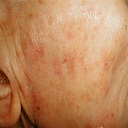Actinic: (30, 18, 92, 72)
